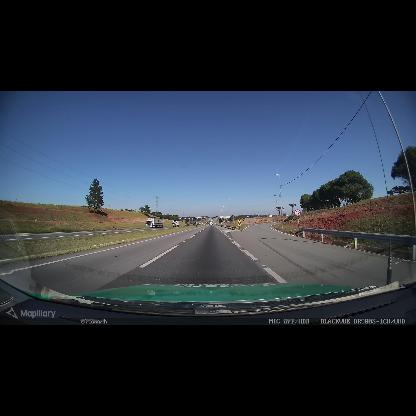O-MP: (238, 218, 241, 226), (236, 226, 238, 229)
R-19: (294, 209, 301, 216)
